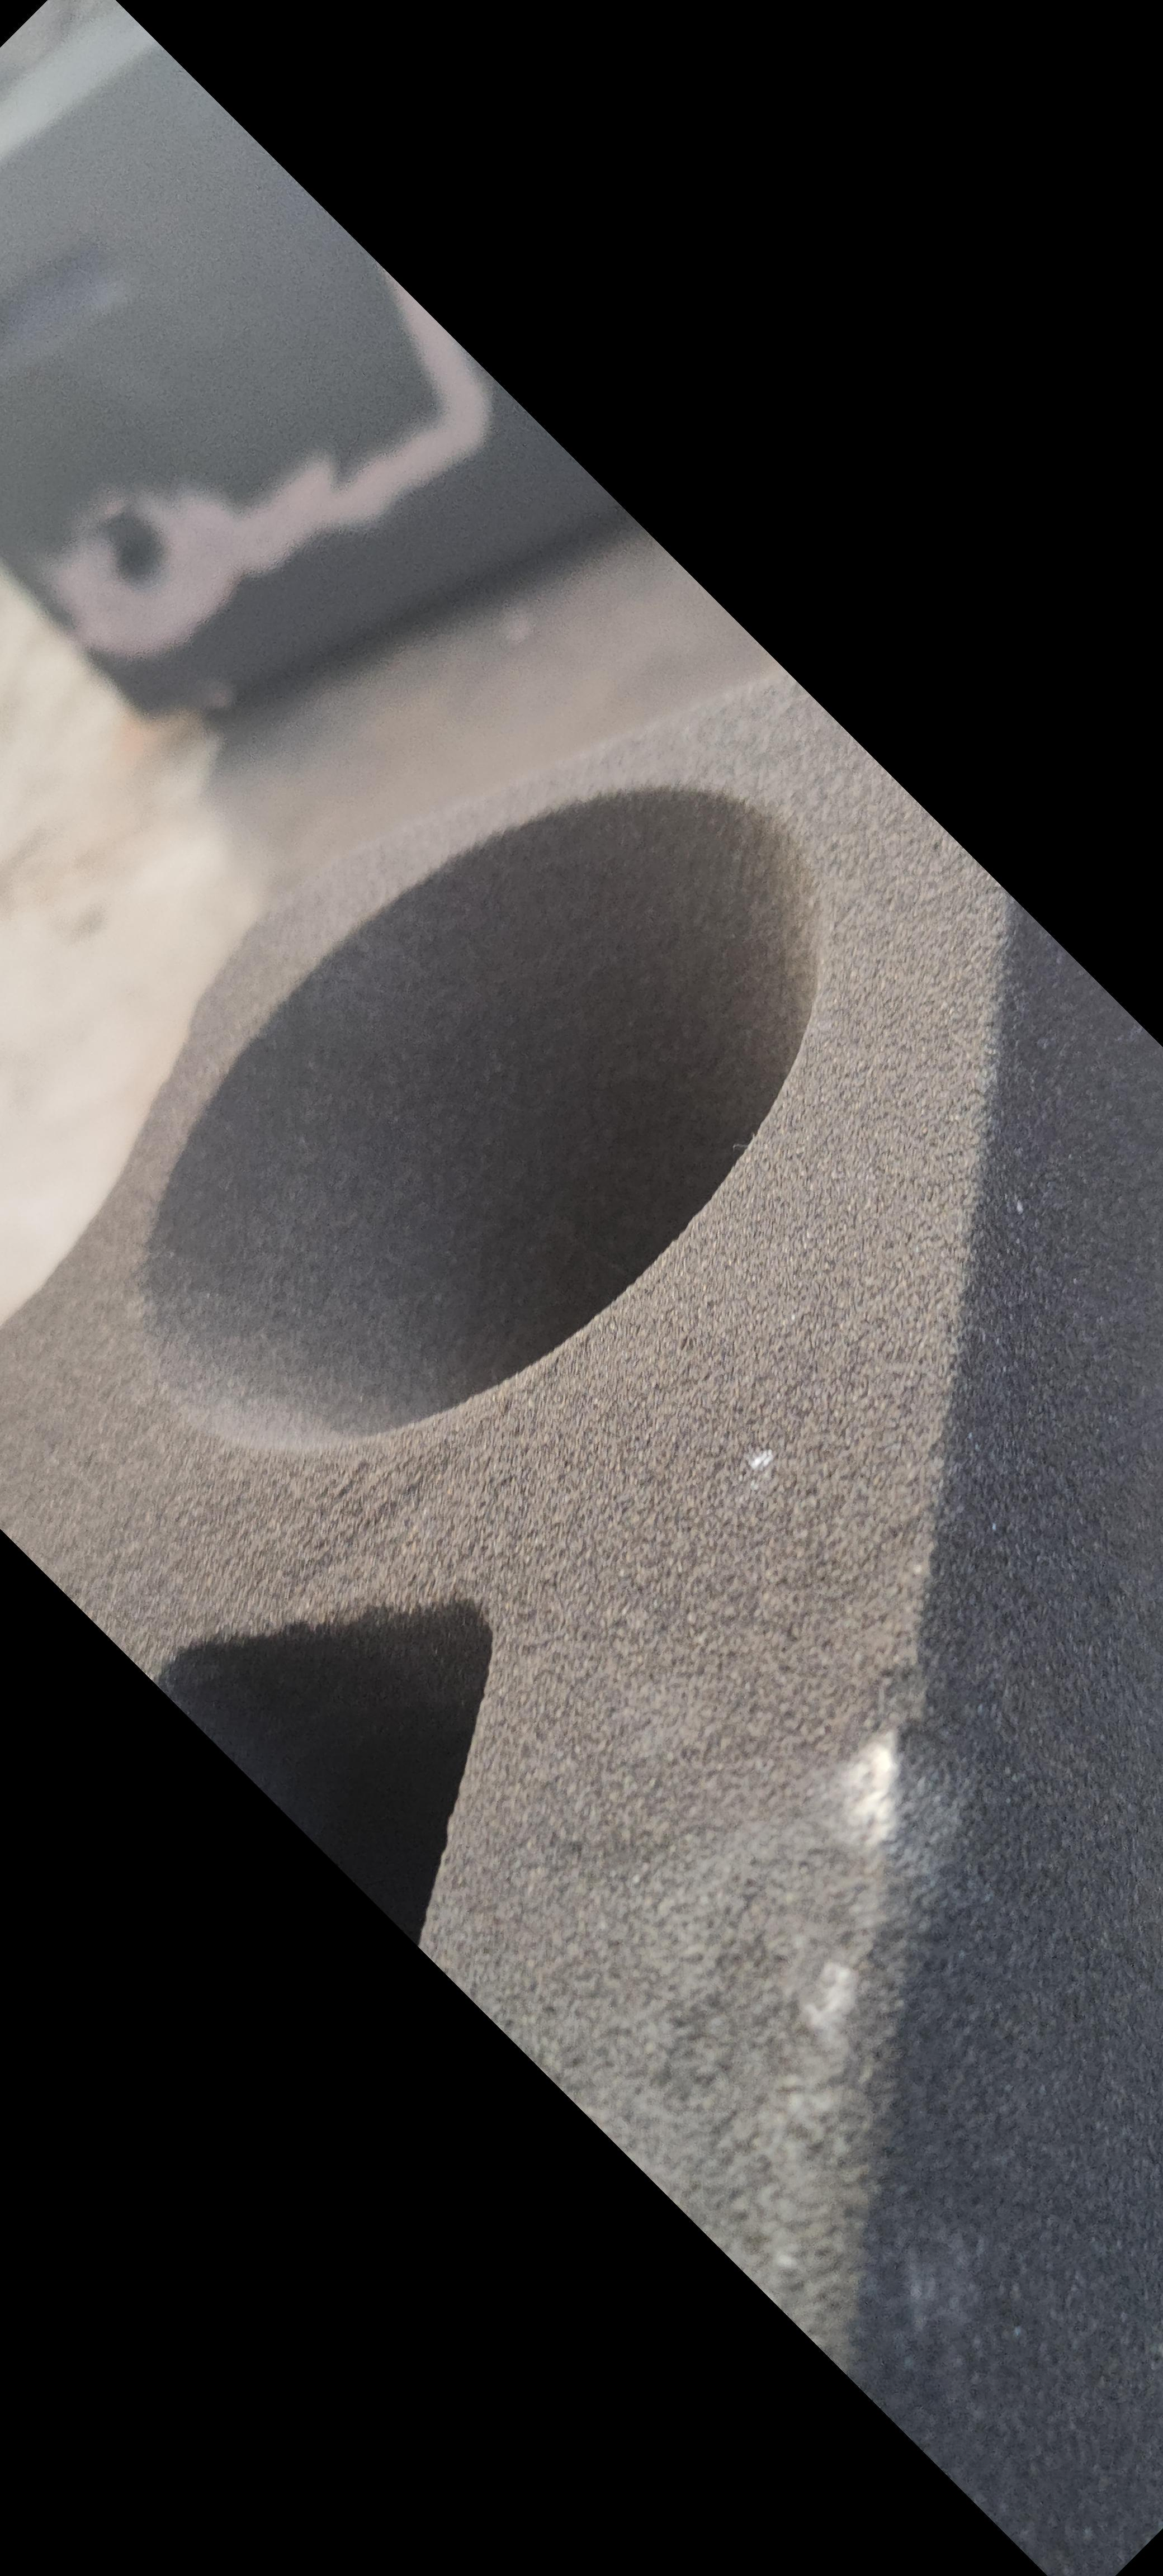pouring hole: (135, 782, 818, 1456)
